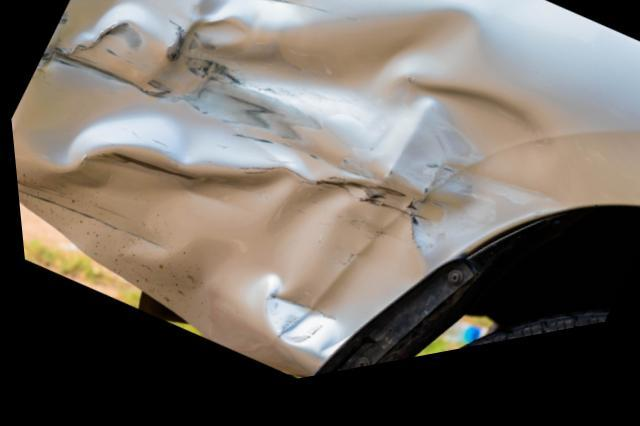dent: (9, 0, 555, 371)
